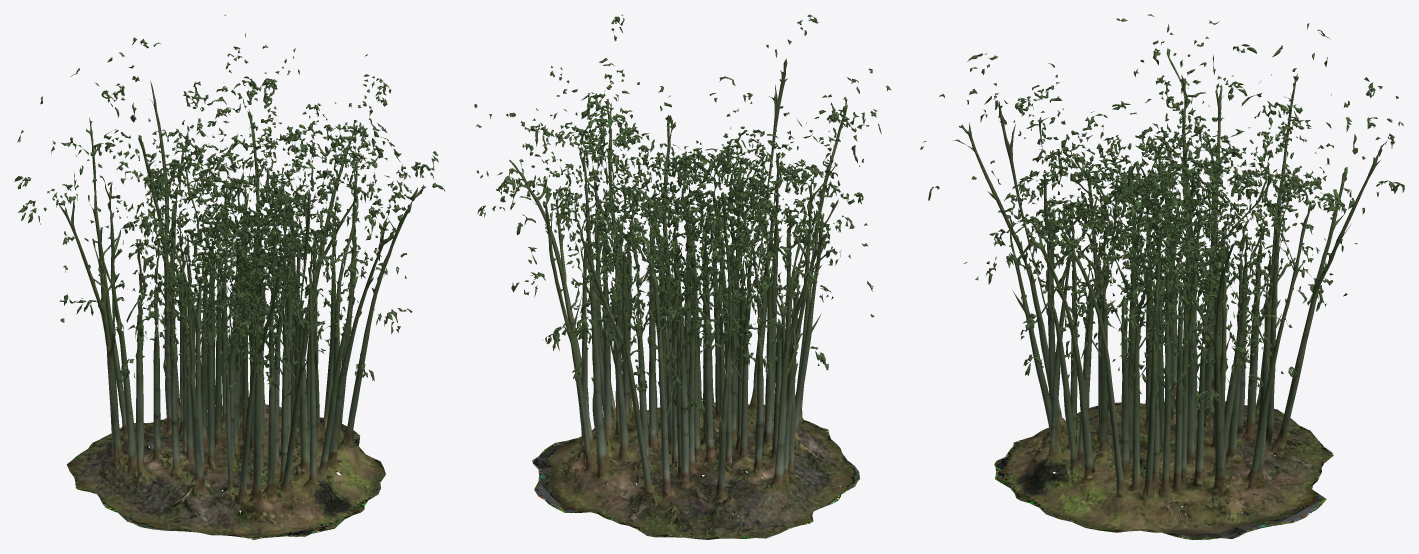
Rendered from bamboo.0.glb.
The picture shows the model from 3 angles, left to right: view 1: azimuth 30°, elevation 25°; view 2: azimuth 150°, elevation 25°; view 3: azimuth 270°, elevation 25°; orthographic projection. The views are drawn at different scales.
Parts seen in each view (by area): view 1: geometry_0; view 2: geometry_0; view 3: geometry_0.
Boxes of the visible parts, <box> form: geometry_0: <box>14,14,445,539</box>; geometry_0: <box>474,14,891,539</box>; geometry_0: <box>920,14,1404,539</box>.
Size of the model in its own units: 0.903 by 0.9245 by 0.9681.
1 material, 1 textured.
